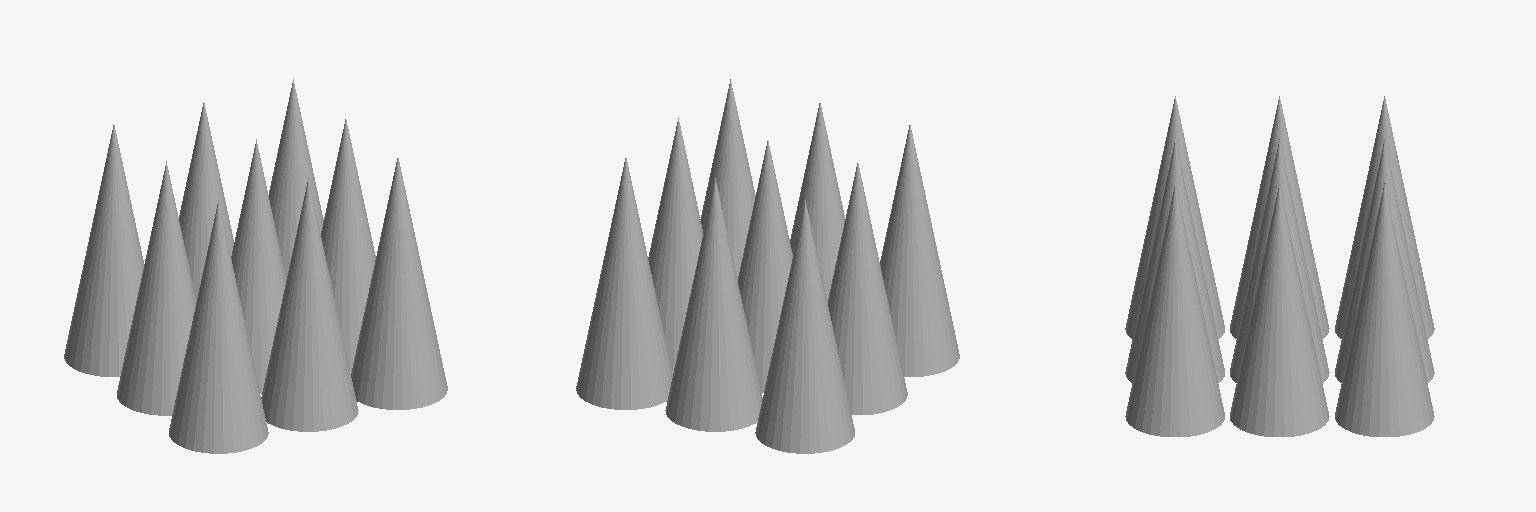
The model's file is spikes.obj.
3 renders of one model, left to right at view 1: azimuth 30°, elevation 25°; view 2: azimuth 150°, elevation 25°; view 3: azimuth 270°, elevation 25°, orthographic.
Visible parts, largest first — view 1: Circle.002, Circle, Circle.001, Circle.008, Circle.003, Circle.004, Circle.005, Circle.007, Circle.006; view 2: Circle.008, Circle.006, Circle.007, Circle.003, Circle.002, Circle.004, Circle.005, Circle.001, Circle; view 3: Circle, Circle.006, Circle.005, Circle.002, Circle.008, Circle.003, Circle.001, Circle.007, Circle.004.
Boxes of the visible parts, box(x1,y1,x2,y2) form: Circle.002: box(169, 200, 268, 453); Circle: box(351, 158, 447, 409); Circle.001: box(261, 178, 358, 431); Circle.008: box(64, 125, 143, 376); Circle.003: box(117, 161, 196, 415); Circle.004: box(231, 139, 286, 393); Circle.005: box(321, 119, 375, 371); Circle.007: box(179, 103, 233, 300); Circle.006: box(269, 79, 323, 278); Circle.008: box(755, 200, 854, 453); Circle.006: box(576, 158, 672, 409); Circle.007: box(665, 178, 762, 431); Circle.003: box(828, 163, 907, 414); Circle.002: box(880, 125, 959, 376); Circle.004: box(738, 141, 792, 392); Circle.005: box(648, 117, 702, 371); Circle.001: box(790, 103, 844, 301); Circle: box(700, 79, 755, 279); Circle: box(1125, 183, 1224, 436); Circle.006: box(1335, 183, 1434, 436); Circle.005: box(1230, 183, 1329, 436); Circle.002: box(1125, 96, 1224, 338); Circle.008: box(1335, 96, 1434, 338); Circle.003: box(1230, 96, 1329, 339); Circle.001: box(1125, 140, 1224, 382); Circle.007: box(1335, 140, 1434, 382); Circle.004: box(1230, 139, 1329, 382).
Bounding box in the file's own units: 6.13 × 5.14 × 6.18.